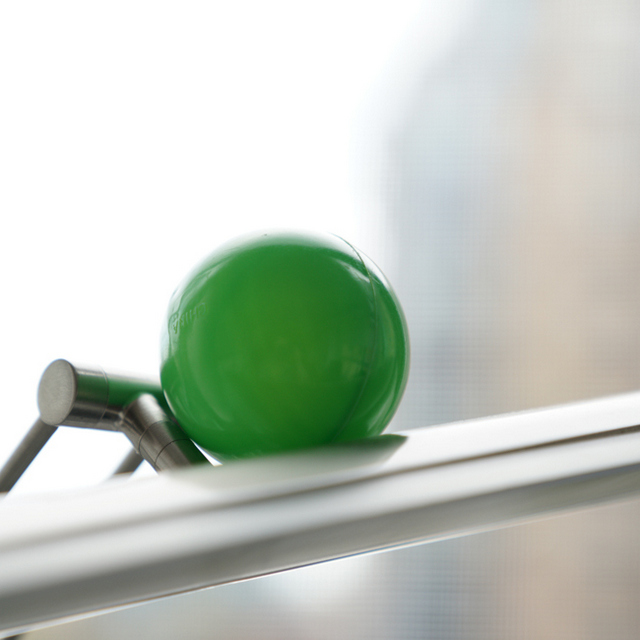Ball: (165, 225, 410, 467)
